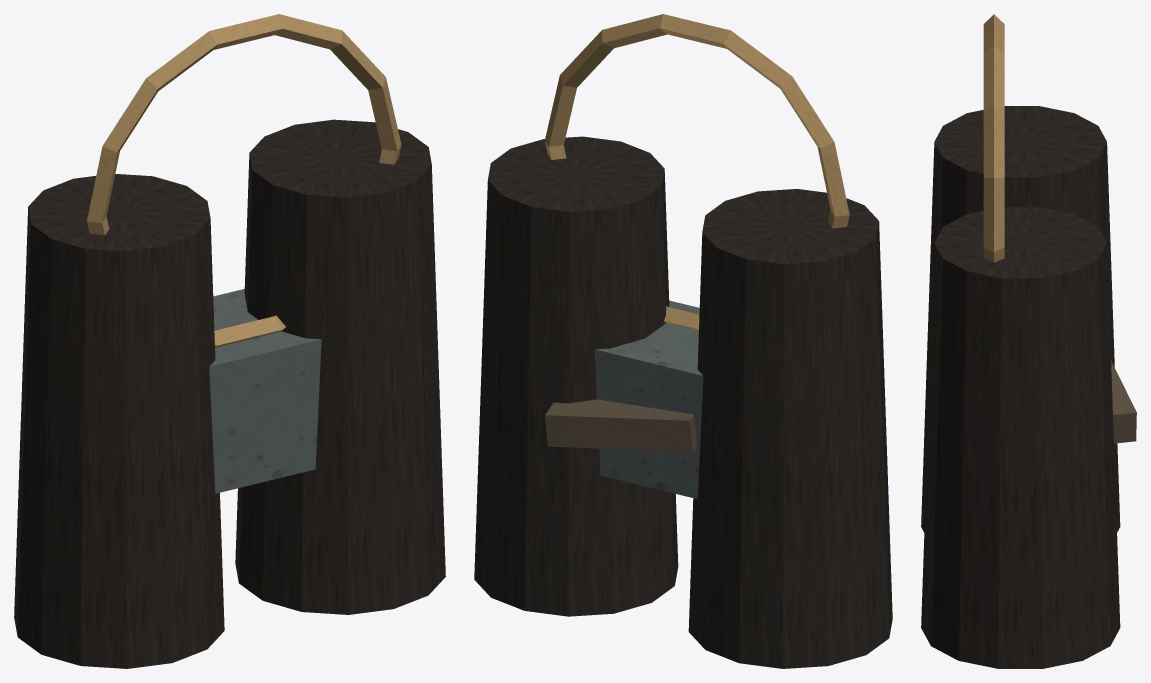
Rendered from ax-tool-005_binoculars__worn.obj.
3 renders of one model, left to right at view 1: azimuth 30°, elevation 25°; view 2: azimuth 150°, elevation 25°; view 3: azimuth 270°, elevation 25°, orthographic. The views are drawn at different scales.
Visible parts, largest first — view 1: ax-tool-005_binoculars__worn; view 2: ax-tool-005_binoculars__worn; view 3: ax-tool-005_binoculars__worn.
Part boxes in pixels (x1=…): ax-tool-005_binoculars__worn: x1=14, y1=14, x2=445, y2=668; ax-tool-005_binoculars__worn: x1=474, y1=14, x2=892, y2=668; ax-tool-005_binoculars__worn: x1=921, y1=14, x2=1136, y2=668.
Size of the model in its own units: 0.3262 by 0.4548 by 0.1625.
4 materials, 4 textured.
